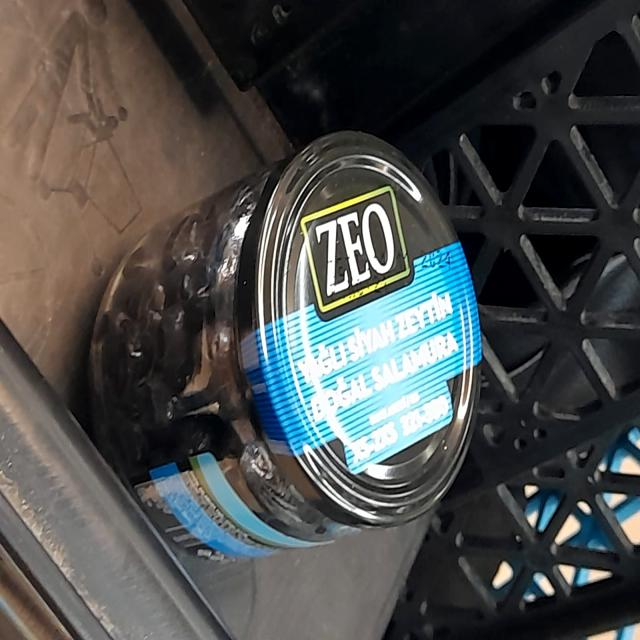olive: (99, 93, 472, 571)
